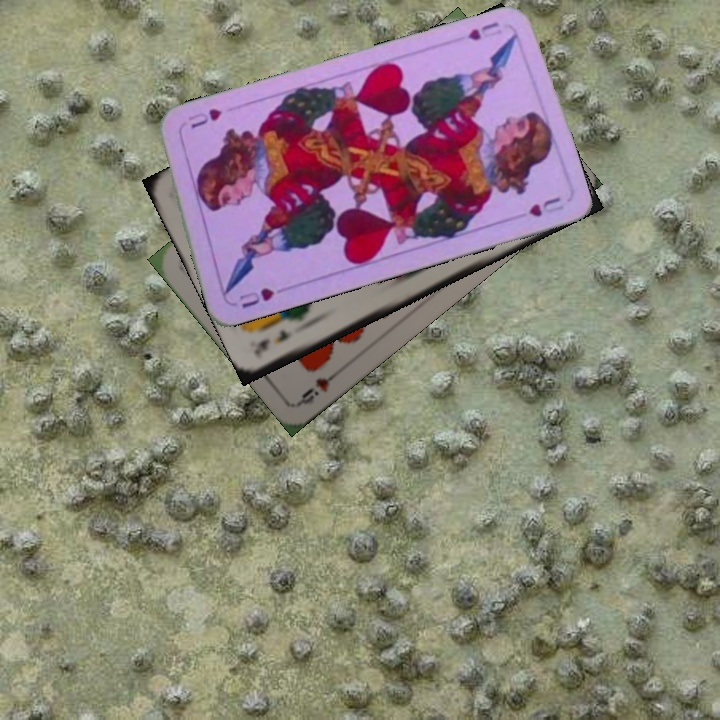EK: (252, 326, 294, 354)
H9: (296, 364, 346, 407)
HU: (235, 283, 277, 311), (463, 17, 501, 43)
